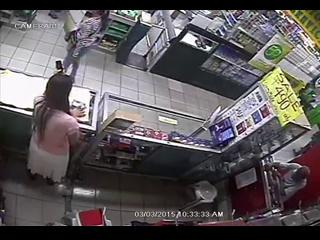Normal: (26, 68, 85, 186)
